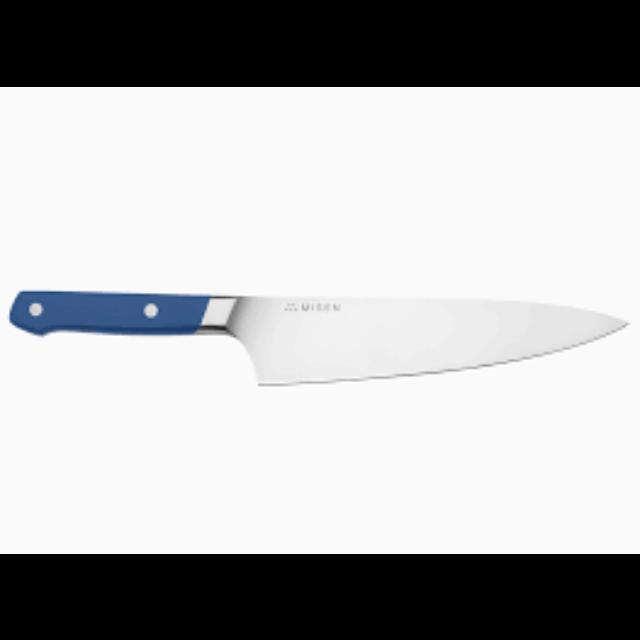Knife: (8, 286, 628, 384)
